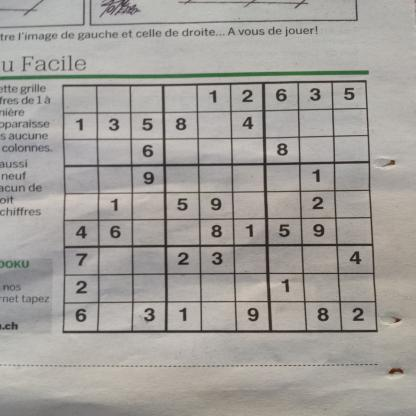sudoku: (60, 77, 380, 336)
